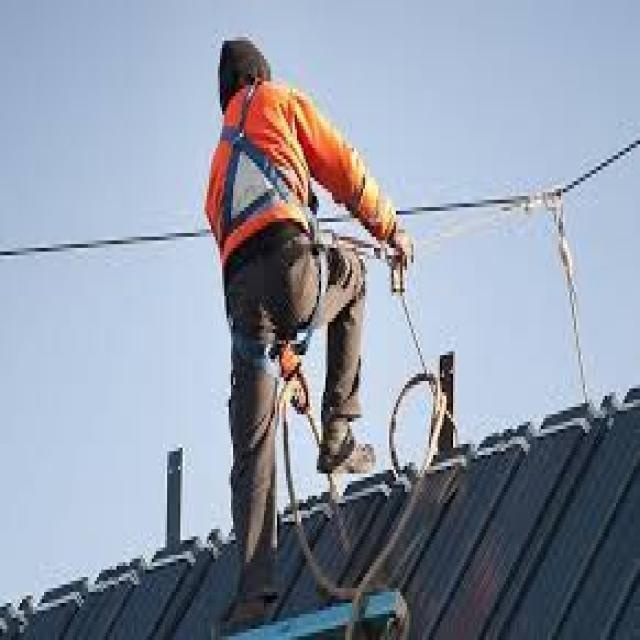Arnes_seguridad: (211, 67, 319, 255)
